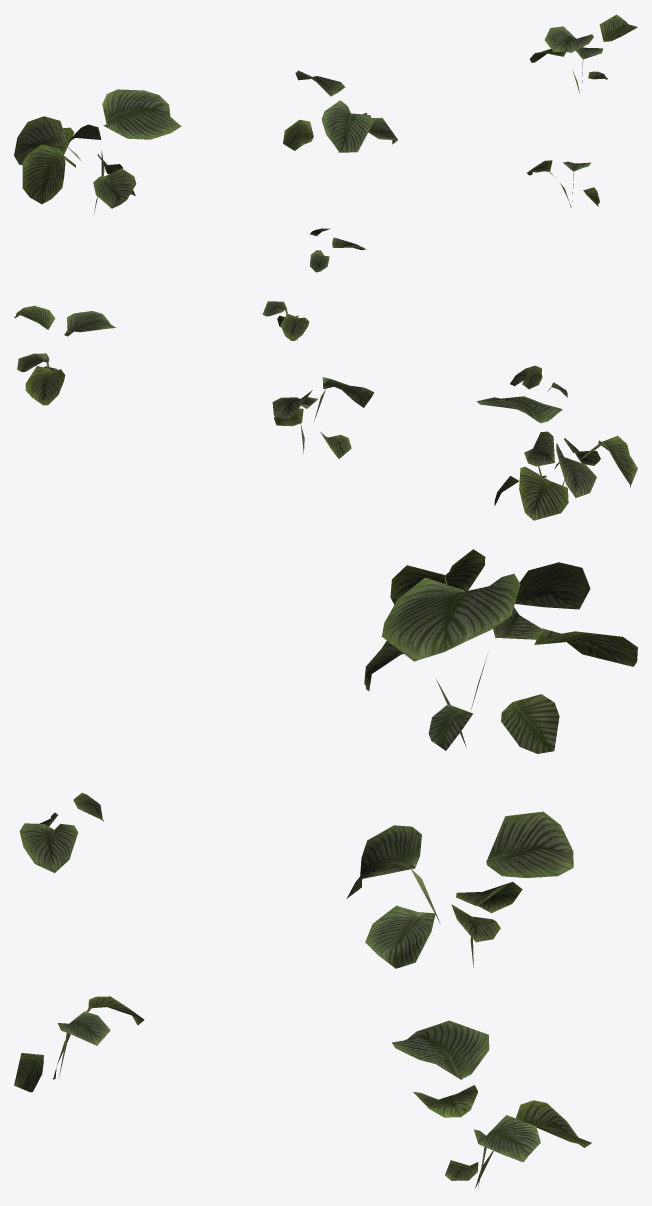
The model's file is calathea_orbifolia_01.glb.
3 views of the same model, one above another, from view 1: azimuth 30°, elevation 25°; view 2: azimuth 150°, elevation 25°; view 3: azimuth 270°, elevation 25° (orthographic). The views are drawn at different scales.
Parts seen in each view (by area): view 1: calathea_orbifolia_01_a, calathea_orbifolia_01_b, calathea_orbifolia_01_c, calathea_orbifolia_01_d, calathea_orbifolia_01_e; view 2: calathea_orbifolia_01_a, calathea_orbifolia_01_c, calathea_orbifolia_01_b, calathea_orbifolia_01_e, calathea_orbifolia_01_d; view 3: calathea_orbifolia_01_a, calathea_orbifolia_01_b, calathea_orbifolia_01_c, calathea_orbifolia_01_d, calathea_orbifolia_01_e.
Boxes of the visible parts, x1,y1,x2,y2 form: calathea_orbifolia_01_a: (14,89,181,212); calathea_orbifolia_01_b: (283,70,397,152); calathea_orbifolia_01_c: (530,14,637,93); calathea_orbifolia_01_d: (310,228,365,272); calathea_orbifolia_01_e: (527,160,599,207); calathea_orbifolia_01_a: (477,396,637,520); calathea_orbifolia_01_c: (14,305,115,405); calathea_orbifolia_01_b: (272,377,374,458); calathea_orbifolia_01_e: (262,301,309,340); calathea_orbifolia_01_d: (510,365,567,397); calathea_orbifolia_01_a: (364,549,637,753); calathea_orbifolia_01_b: (346,811,573,968); calathea_orbifolia_01_c: (392,1020,591,1189); calathea_orbifolia_01_d: (19,792,103,872); calathea_orbifolia_01_e: (14,996,144,1092).
Bounding box in the file's own units: 2.49 × 0.4205 × 1.19.
1 material, 1 textured.
